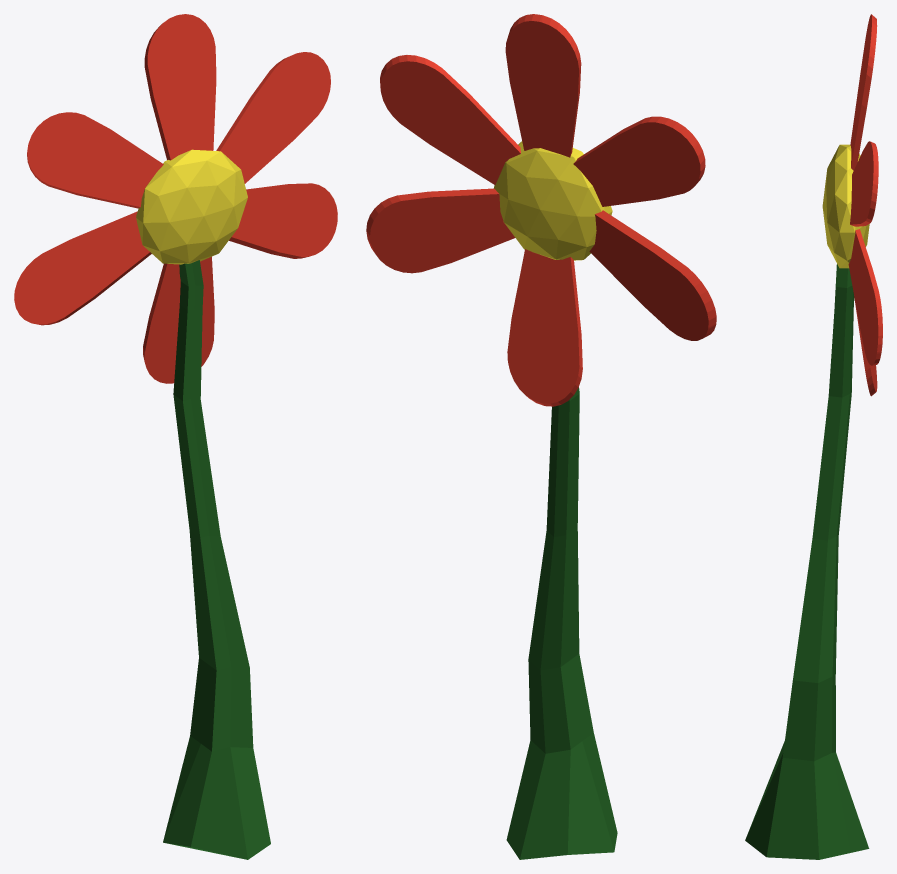
The model's file is flower_f.glb.
3 renders of one model, left to right at view 1: azimuth 30°, elevation 25°; view 2: azimuth 150°, elevation 25°; view 3: azimuth 270°, elevation 25°, orthographic. The views are drawn at different scales.
Parts seen in each view (by area): view 1: Cube, Icosphere, Cube.004, Cube.002, Cube.005, Cube.001, Cube.003, Cube.006; view 2: Cube, Cube.006, Cube.003, Cube.001, Icosphere, Cube.002, Cube.004, Cube.005; view 3: Cube, Icosphere, Cube.003, Cube.001, Cube.002, Cube.006.
Part boxes in pixels (x1,y1,x2,y2): Cube: (163,260,270,859); Icosphere: (136,149,247,264); Cube.004: (27,112,163,208); Cube.002: (144,14,216,160); Cube.005: (14,211,151,325); Cube.001: (216,52,330,183); Cube.003: (229,183,337,258); Cube.006: (143,256,214,383); Cube: (506,387,617,859); Cube.006: (507,249,582,406); Cube.003: (366,188,515,273); Cube.001: (380,55,520,184); Icosphere: (493,141,612,260); Cube.002: (505,14,581,157); Cube.004: (573,116,705,206); Cube.005: (589,210,716,340); Cube: (745,264,869,859); Icosphere: (822,144,869,268); Cube.003: (848,229,882,365); Cube.001: (850,141,878,226); Cube.002: (850,14,877,170); Cube.006: (854,297,877,396).
Size of the model in its own units: 1.27 by 2.98 by 0.4537.
